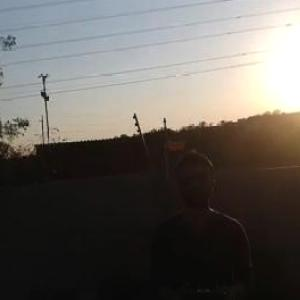follow: (143, 144, 259, 299)
